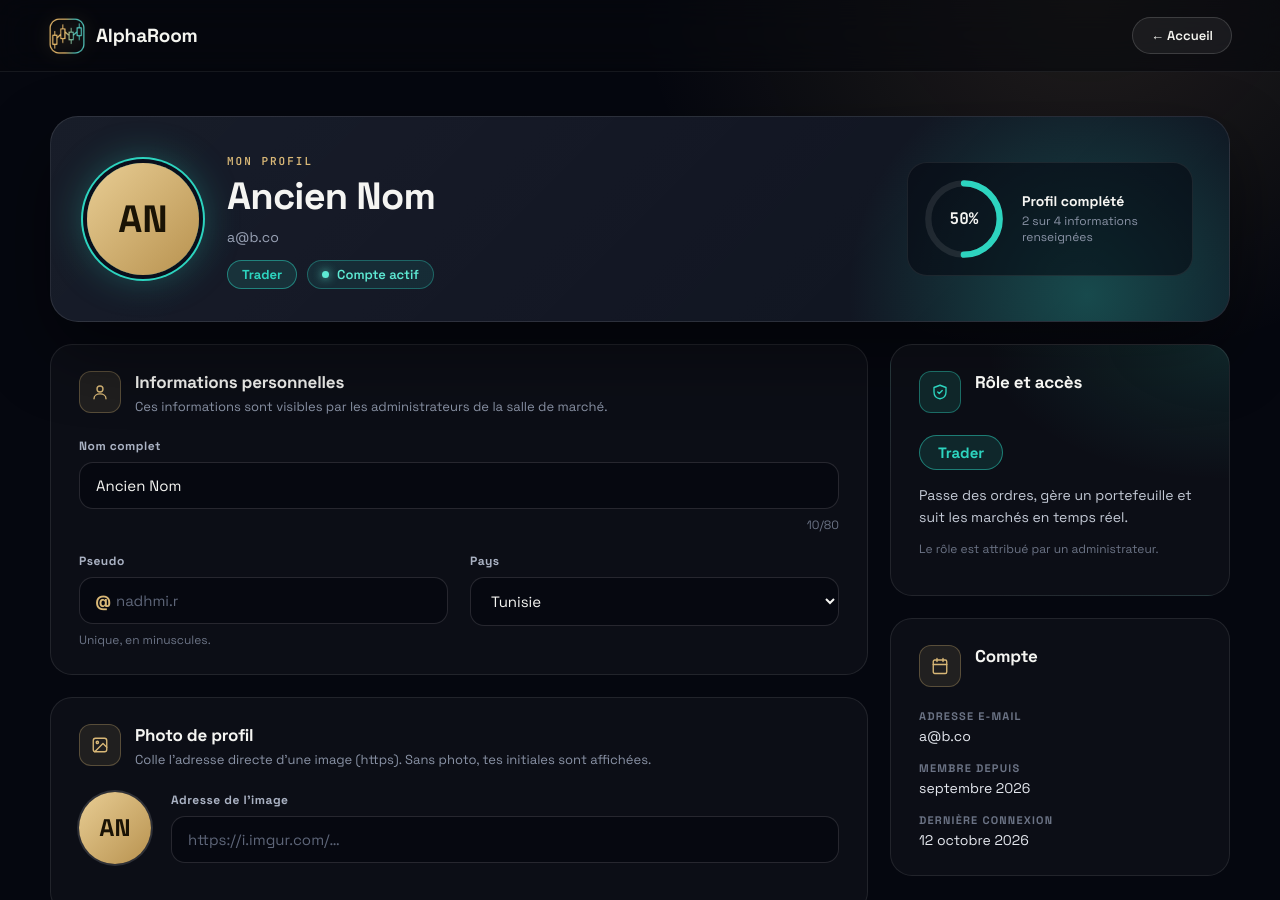
it: ProfilePage › n'affiche la barre d'enregistrement qu'en cas de modification, et Annuler restaure
Expected: the button "Enregistrer" is not shown
Replace the text in the field labelled "Nom complet" with "Autre". click: (459,486)
box: [79,462,839,509]
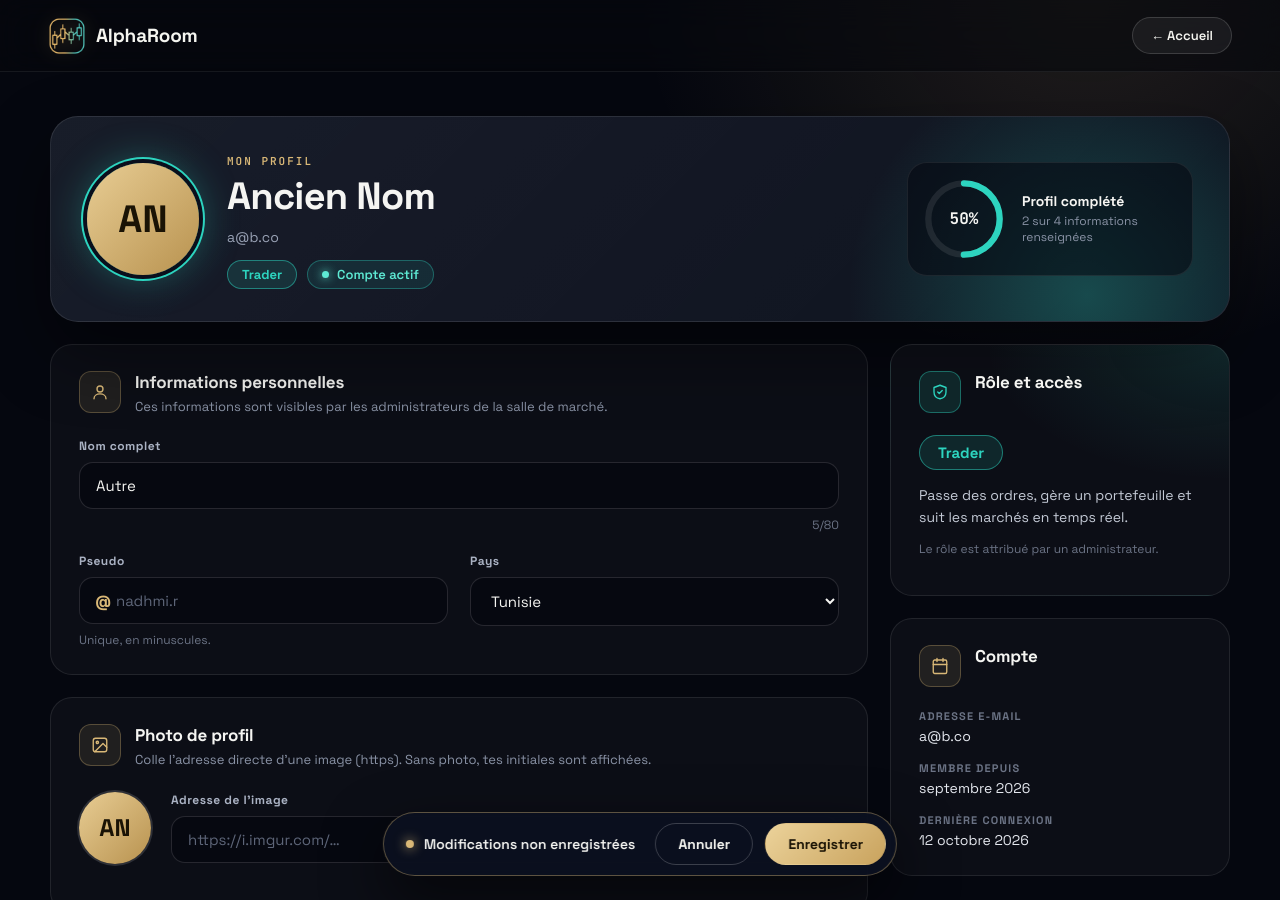
Now the button "Enregistrer" is shown, box [765,823,886,865]
Click the button "Annuler". click: (704,844)
box: [655,823,753,865]
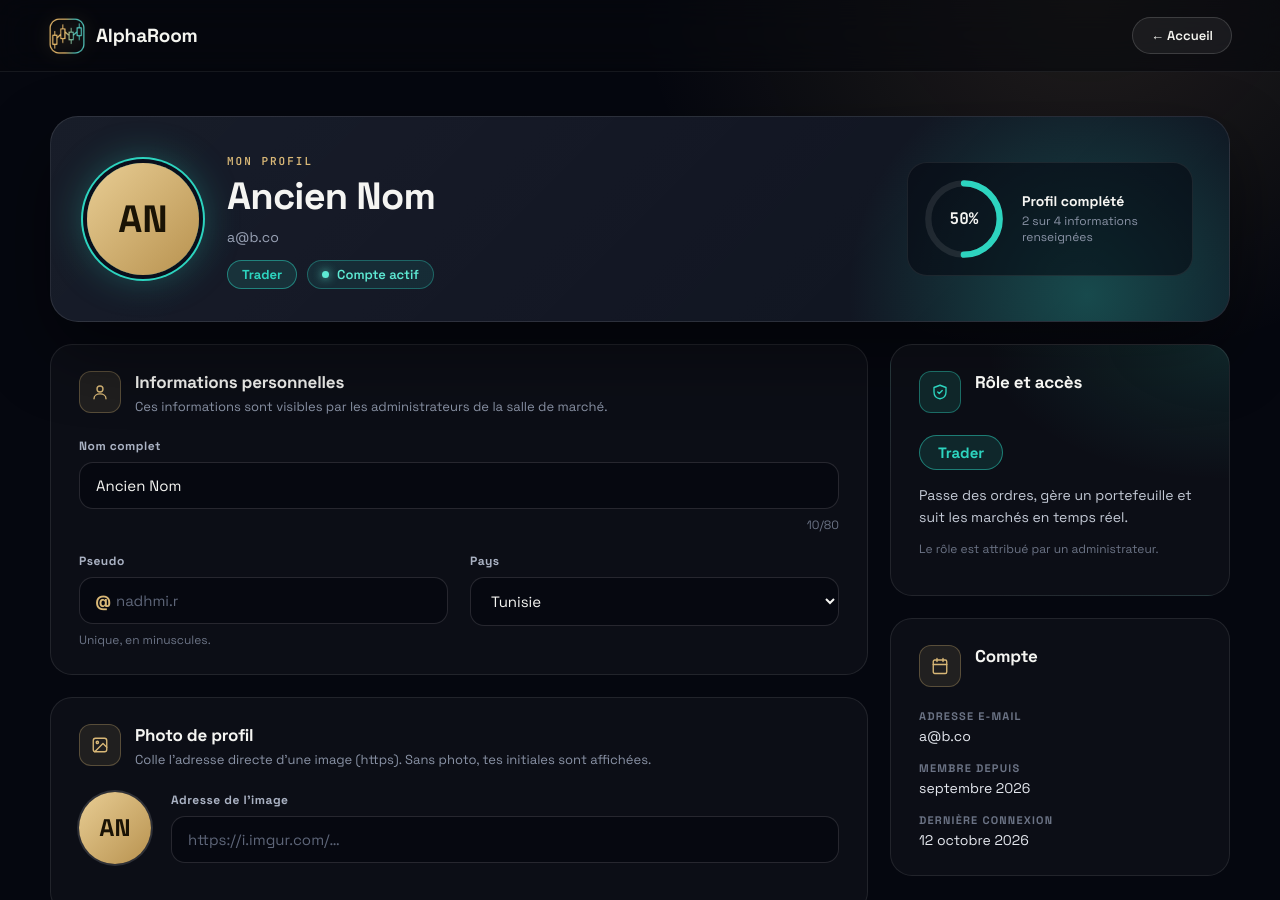
Now the field labelled "Nom complet" holds "Ancien Nom", box [79,462,839,509]
Now the button "Enregistrer" is gone
